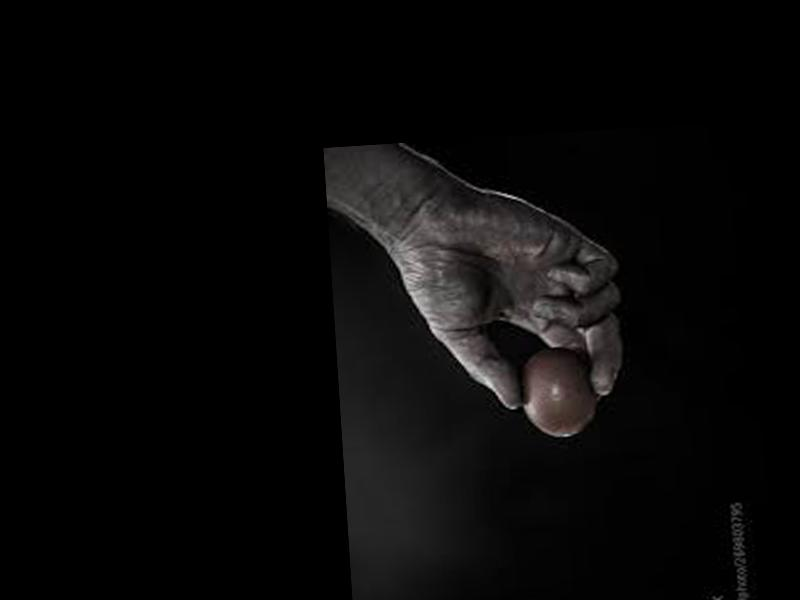Eggs: (516, 342, 597, 438)
